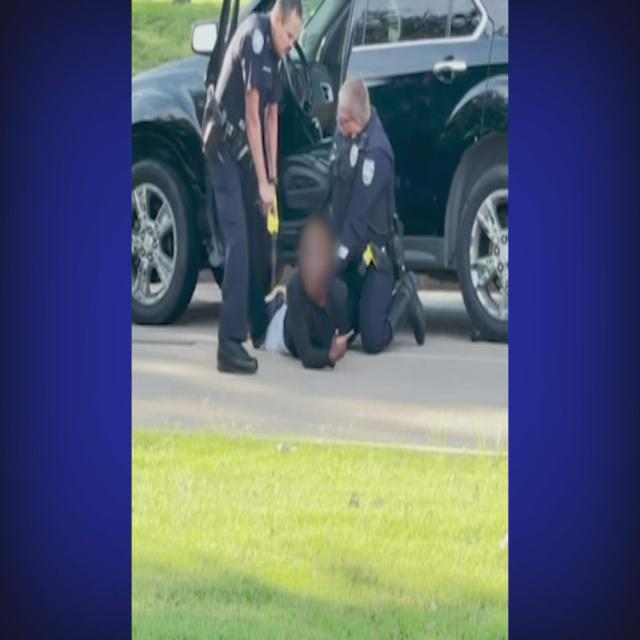police: (203, 0, 312, 391), (328, 54, 428, 388)
